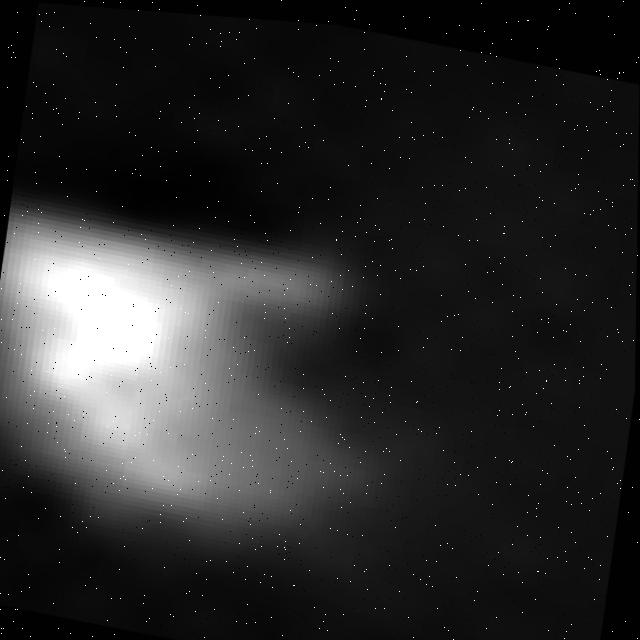person: (1, 162, 516, 585)
